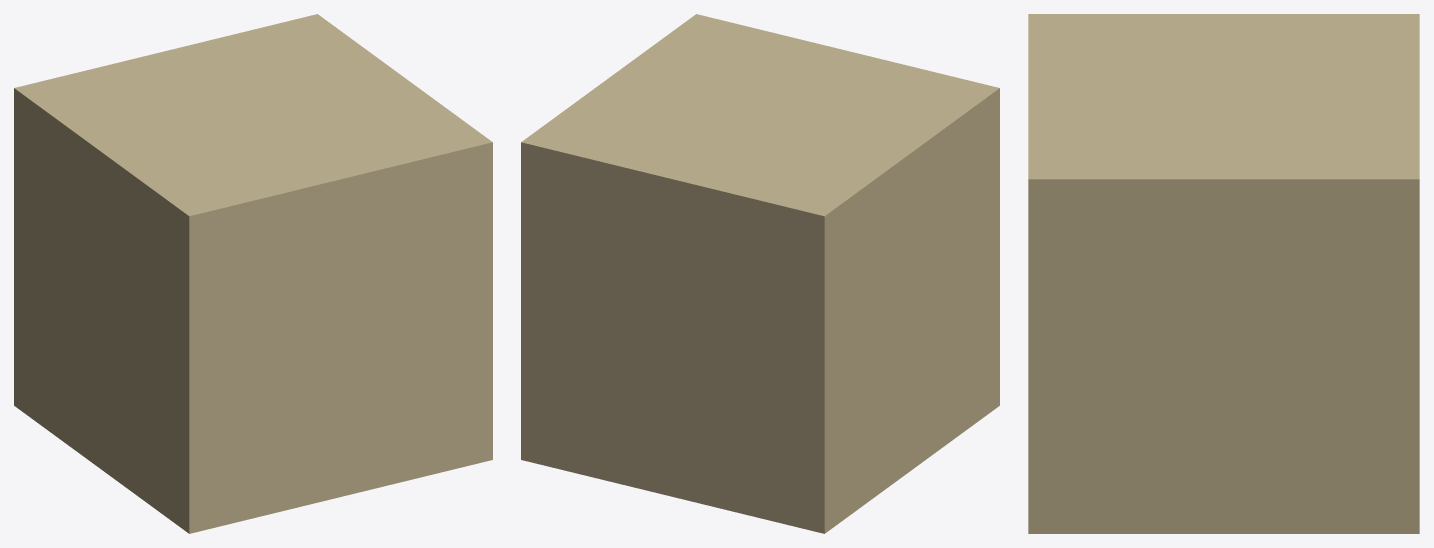
File: sand3.fbx
3 views of the same model, side by side, from view 1: azimuth 30°, elevation 25°; view 2: azimuth 150°, elevation 25°; view 3: azimuth 270°, elevation 25° (orthographic). The views are drawn at different scales.
Parts seen in each view (by area): view 1: sand3; view 2: sand3; view 3: sand3.
Boxes of the visible parts, bbox=[...] form: sand3: bbox=[14, 14, 492, 533]; sand3: bbox=[521, 14, 999, 533]; sand3: bbox=[1028, 14, 1419, 533].
Bounding box in the file's own units: 200 × 200 × 200.
